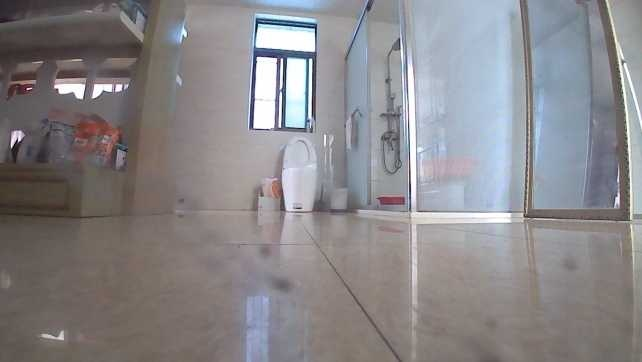door_sill: (365, 207, 411, 219)
toilet: (280, 135, 318, 213)
